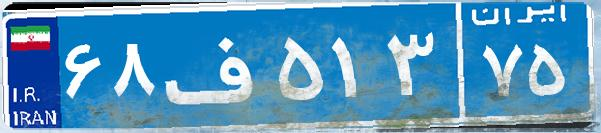1: (330, 28, 385, 110)
3: (385, 28, 445, 110)
5: (273, 28, 330, 110), (525, 38, 570, 115)
6: (57, 26, 110, 107)
7: (475, 38, 525, 113)
8: (110, 28, 158, 105)
ف: (158, 15, 273, 115)
